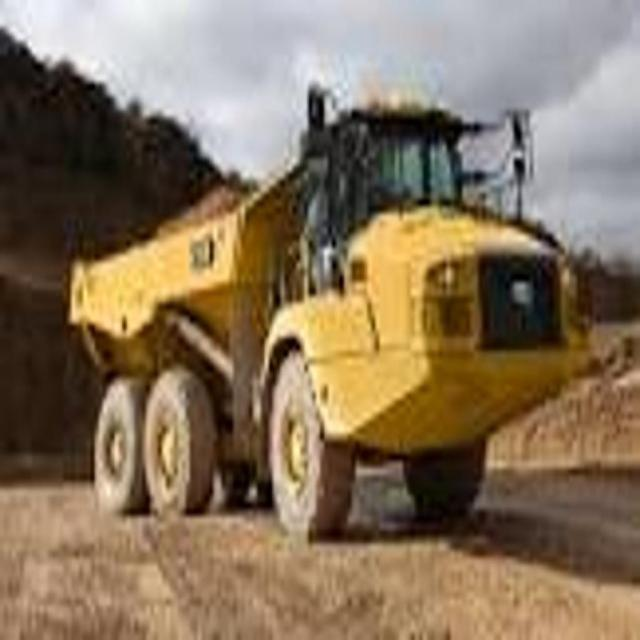dump_truck: (65, 79, 583, 546)
